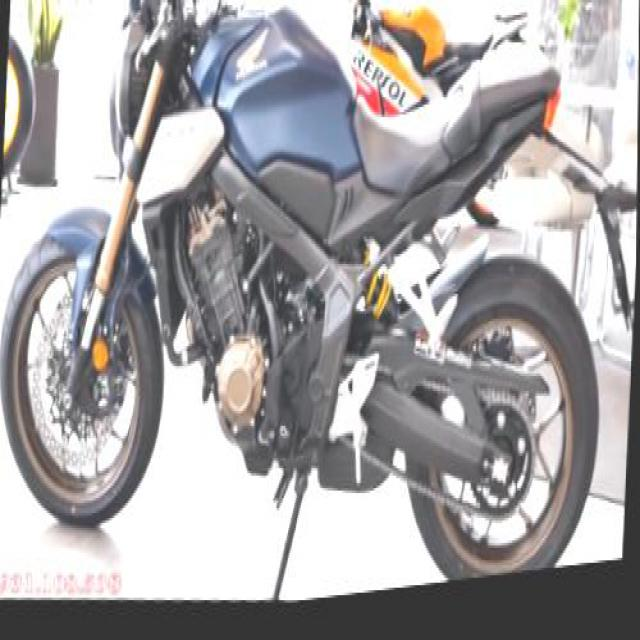CB650R: (0, 0, 625, 638)
